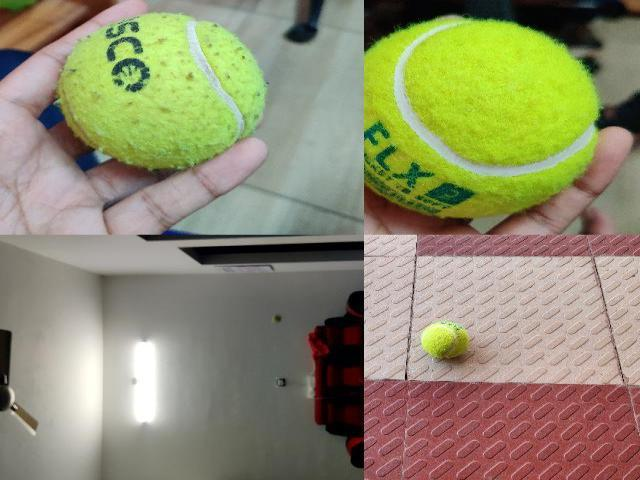tennis-ball: (364, 19, 599, 216), (56, 12, 268, 168), (420, 322, 468, 358), (272, 314, 282, 322)
